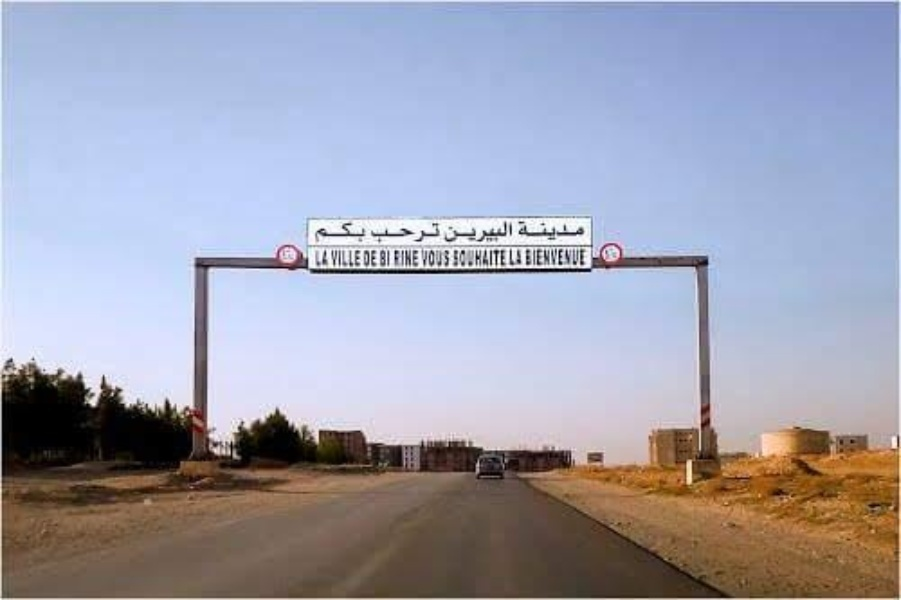text: (449, 220, 464, 244), (465, 220, 480, 244), (481, 220, 496, 244), (497, 220, 512, 244), (529, 219, 544, 242), (545, 219, 560, 242), (561, 219, 576, 242), (385, 222, 400, 244), (401, 222, 416, 244), (417, 222, 432, 244), (321, 222, 336, 244), (337, 222, 352, 244), (465, 247, 480, 269), (481, 247, 496, 269), (401, 249, 416, 269), (529, 247, 544, 267), (545, 247, 560, 267), (561, 247, 576, 267), (353, 222, 366, 244), (516, 219, 528, 242), (337, 249, 352, 267), (433, 249, 448, 267), (497, 247, 509, 269), (453, 247, 464, 269), (374, 222, 384, 244), (577, 247, 588, 267), (420, 249, 432, 267), (577, 219, 586, 242), (513, 247, 523, 267), (433, 222, 442, 244), (353, 249, 363, 267), (321, 249, 330, 269), (369, 247, 377, 267), (385, 247, 392, 269), (361, 247, 368, 267), (393, 249, 400, 269), (314, 222, 320, 244), (314, 249, 320, 269), (379, 247, 384, 269), (330, 249, 336, 267), (523, 247, 528, 267), (449, 249, 453, 267), (417, 249, 420, 269), (509, 247, 512, 267), (447, 220, 448, 244), (513, 220, 514, 244)
